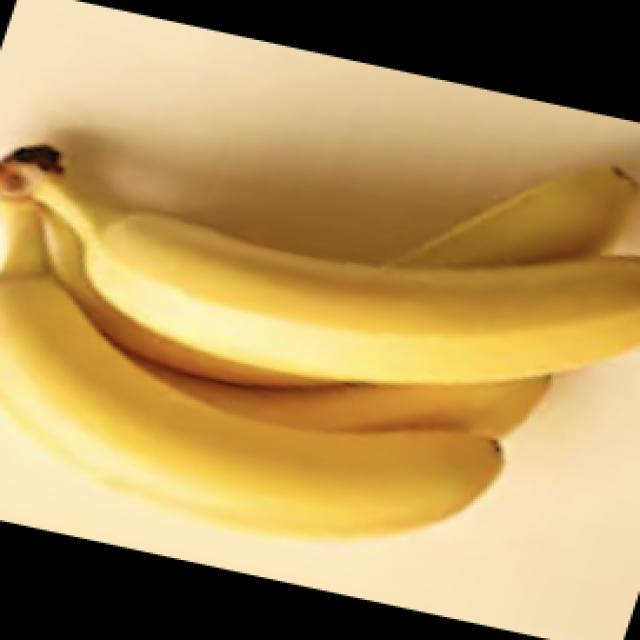Banana: (0, 137, 637, 547)
